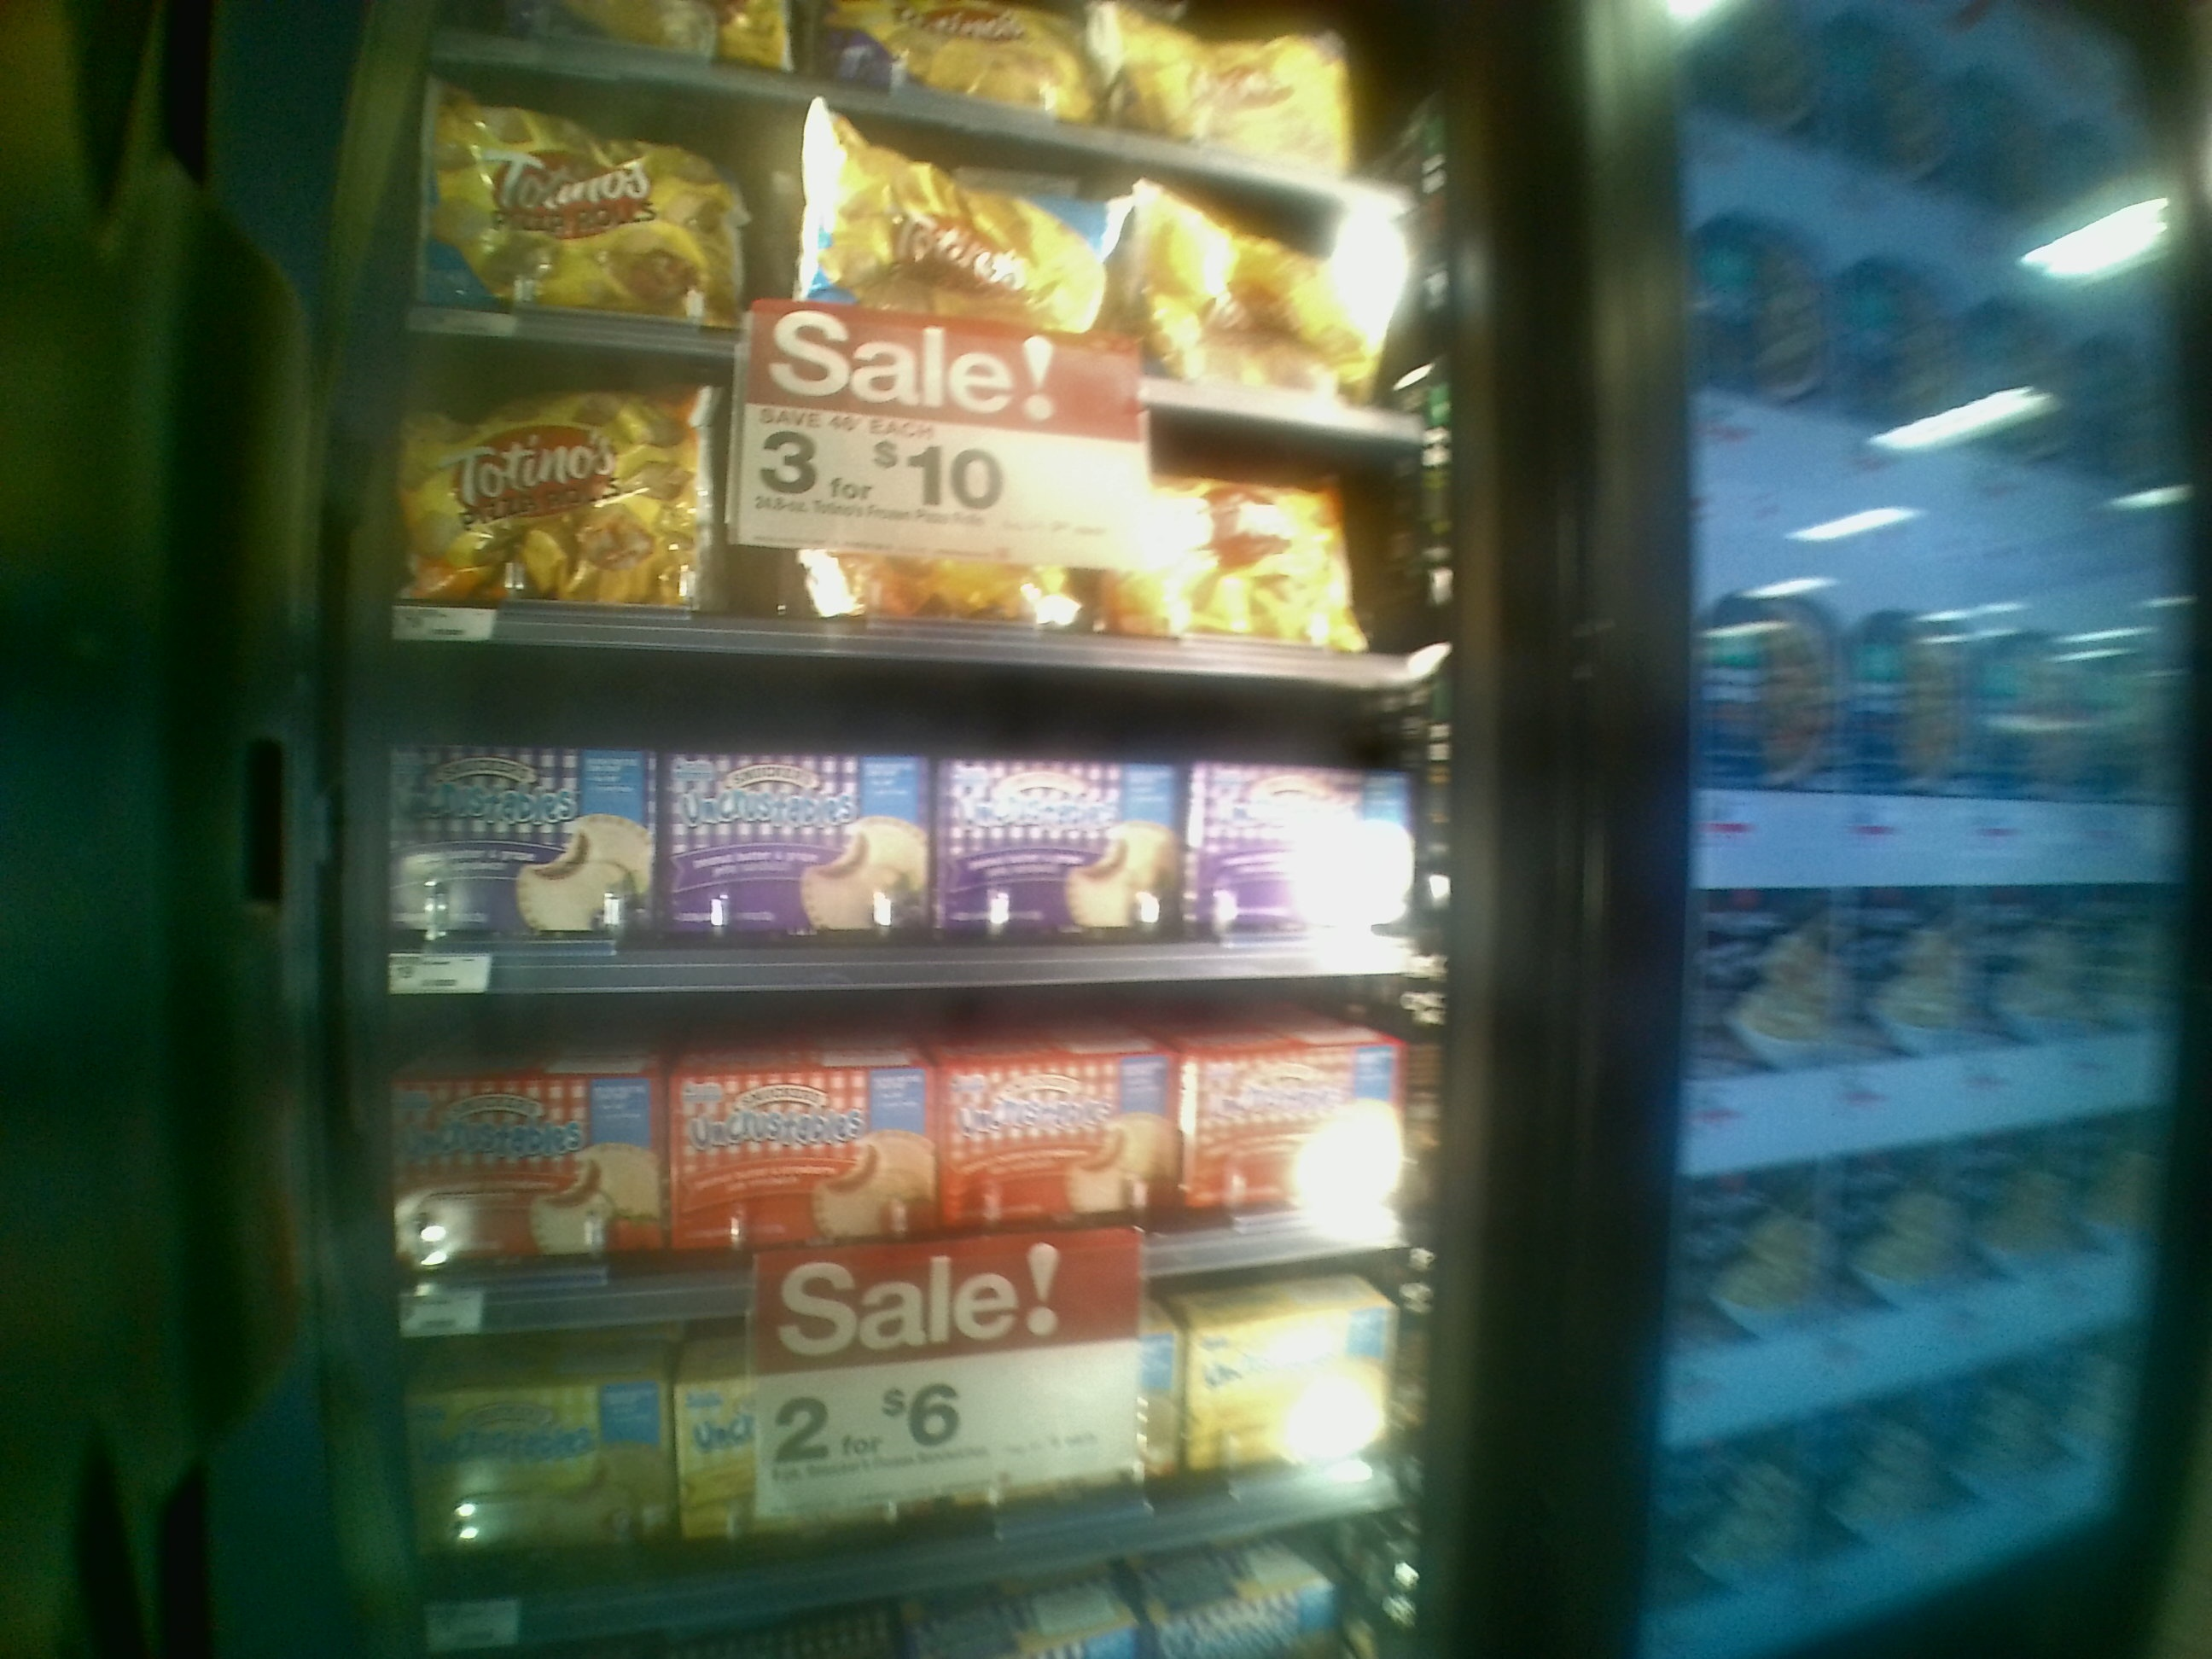shelf: (388, 108, 1433, 427), (366, 1011, 1426, 1319), (364, 695, 1446, 995), (369, 1337, 1421, 1629), (366, 422, 1423, 695)
